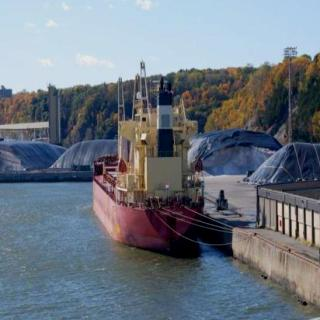Bulk Carrier: (88, 57, 212, 264)
